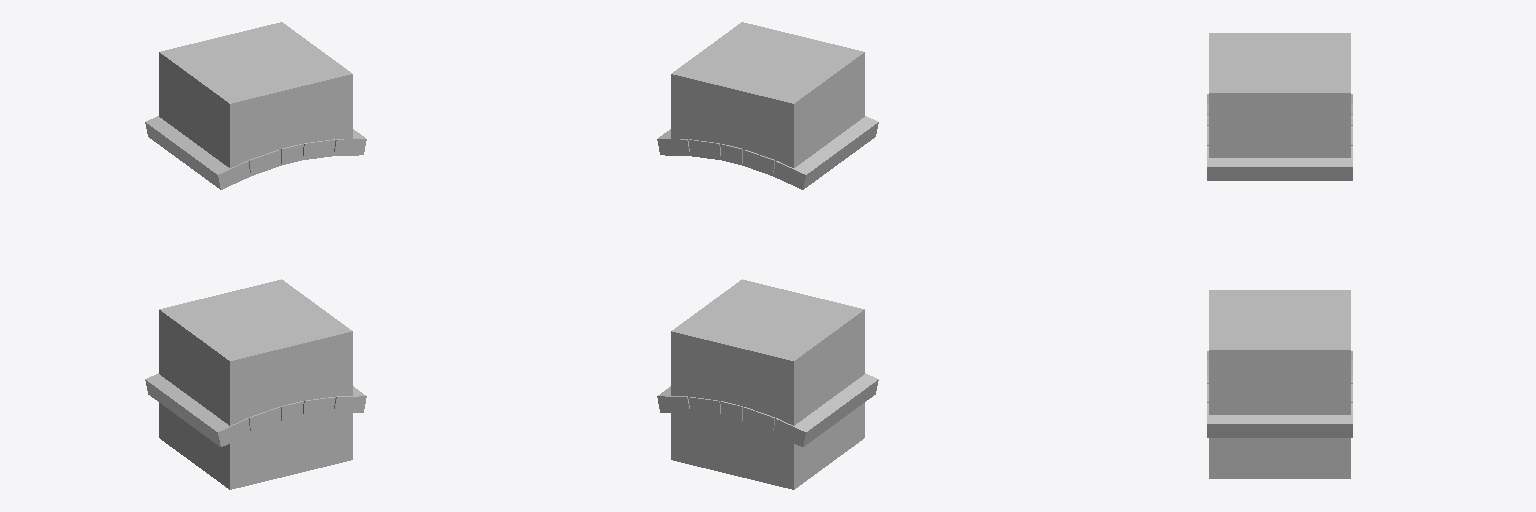
File: sandstone_five_arch_center.obj
The picture shows the model from 3 angles: view 1: azimuth 30°, elevation 25°; view 2: azimuth 150°, elevation 25°; view 3: azimuth 270°, elevation 25°; orthographic projection.
Visible parts, largest first — view 1: cube; view 2: cube; view 3: cube.
Boxes of the visible parts, box(x1,y1,x2,y2) form: cube: box(145, 22, 366, 489); cube: box(657, 22, 878, 489); cube: box(1207, 33, 1352, 478).
Bounding box in the file's own units: 1.21 × 3 × 1.02.